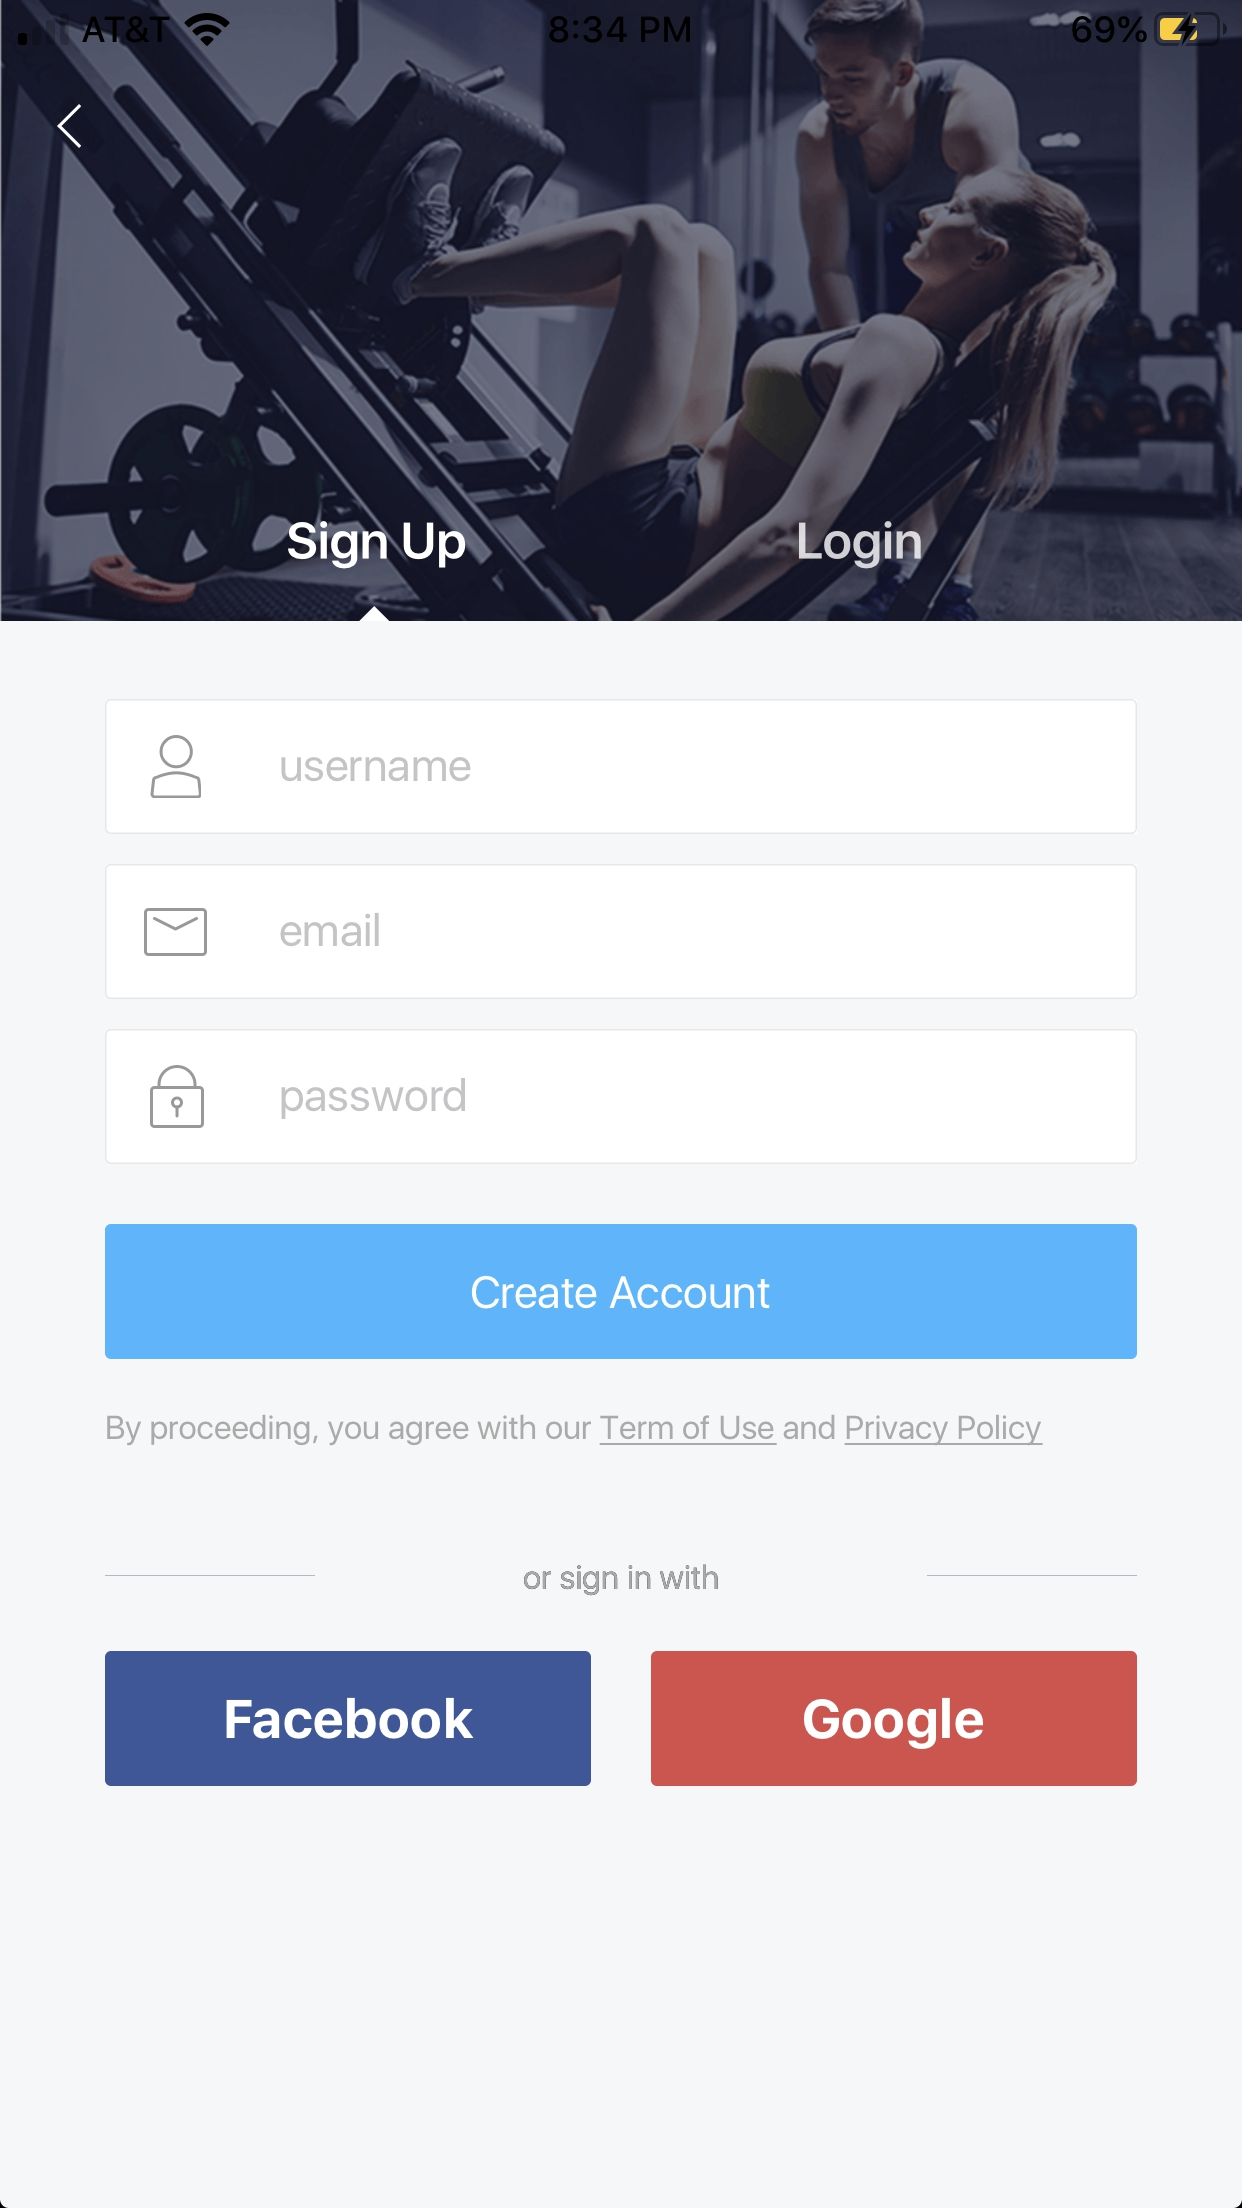EditText: (105, 701, 1137, 836), (105, 864, 1137, 999), (105, 1030, 1137, 1165)
Icon: (150, 1065, 205, 1128), (150, 735, 202, 799), (146, 908, 208, 957), (58, 105, 82, 149)
Image: (2, 2, 1242, 622)
Text: (108, 1415, 1043, 1447), (288, 522, 466, 570), (282, 1078, 466, 1121), (525, 1563, 719, 1595), (801, 522, 922, 570), (282, 757, 472, 783), (281, 914, 381, 948)
TextButton: (105, 1225, 1137, 1360), (651, 1651, 1137, 1786), (106, 1651, 591, 1786)
UpperTaskBar: (2, 2, 1242, 49)
